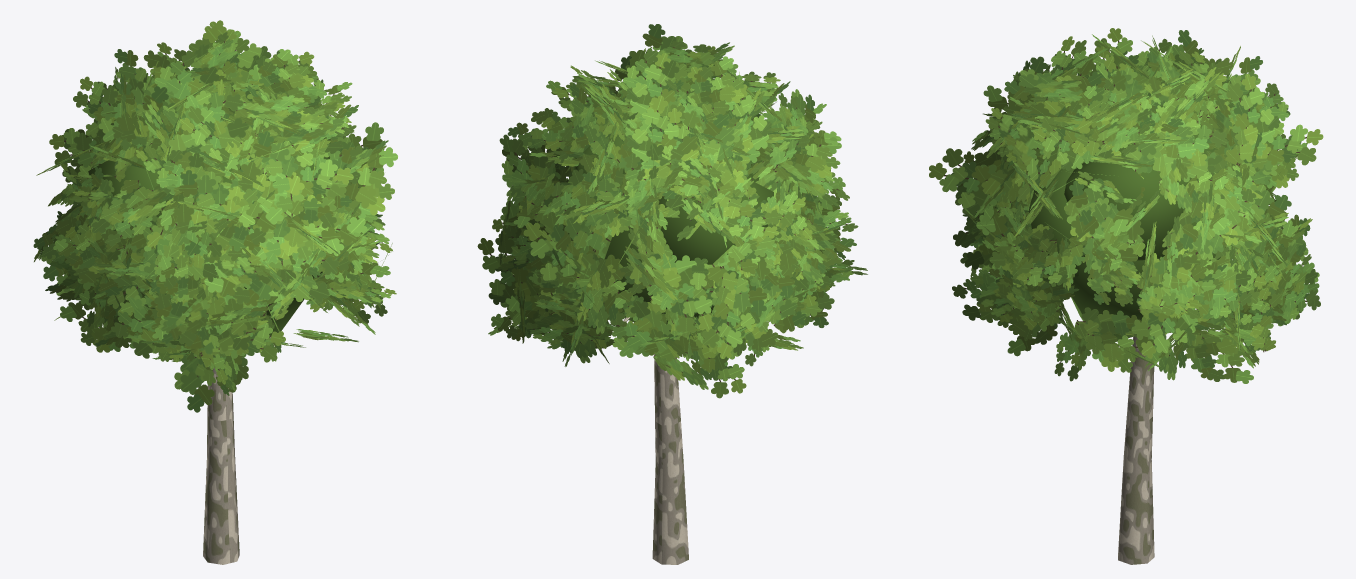
Rendered from PLATANUS_1.glb.
The picture shows the model from 3 angles, left to right: view 1: azimuth 30°, elevation 25°; view 2: azimuth 150°, elevation 25°; view 3: azimuth 270°, elevation 25°; orthographic projection. The views are drawn at different scales.
Parts seen in each view (by area): view 1: Arv_PLATANUS_lod1; view 2: Arv_PLATANUS_lod1; view 3: Arv_PLATANUS_lod1.
Part boxes in pixels (x1,y1,x2,y2): Arv_PLATANUS_lod1: (33, 20, 397, 564); Arv_PLATANUS_lod1: (477, 24, 867, 564); Arv_PLATANUS_lod1: (929, 28, 1323, 564).
Bounding box in the file's own units: 8.14 × 10.82 × 7.63.
3 materials, 2 textured.
